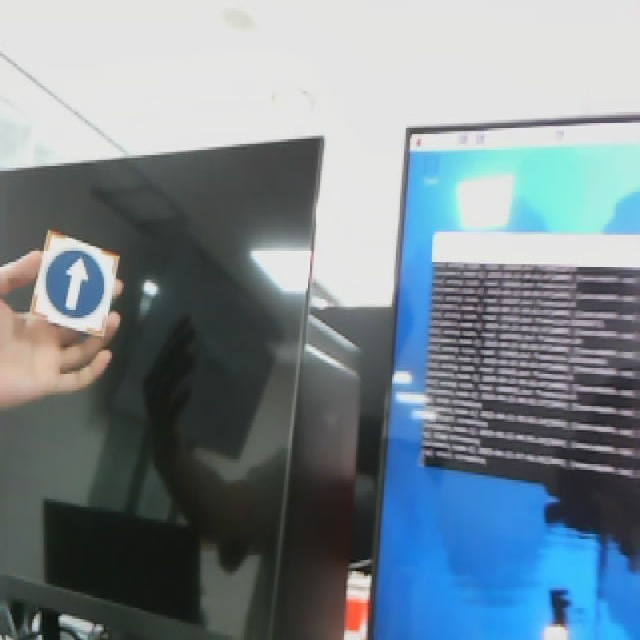strait: (27, 230, 121, 338)
